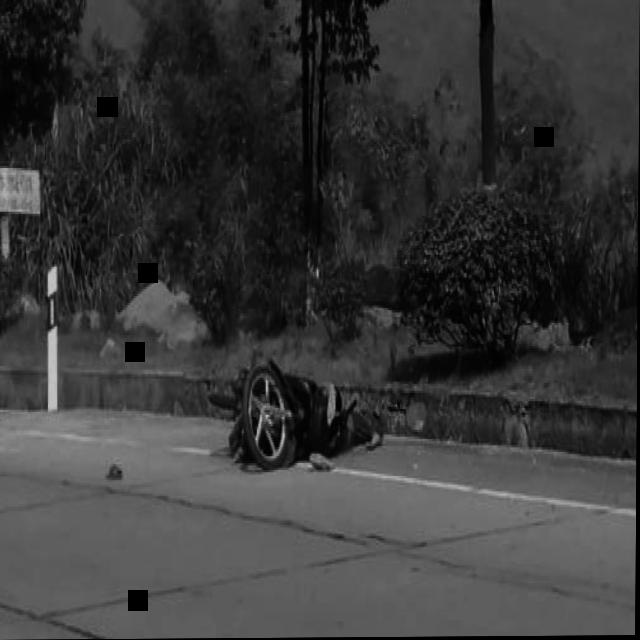Fall-Detected: (222, 355, 393, 480)
